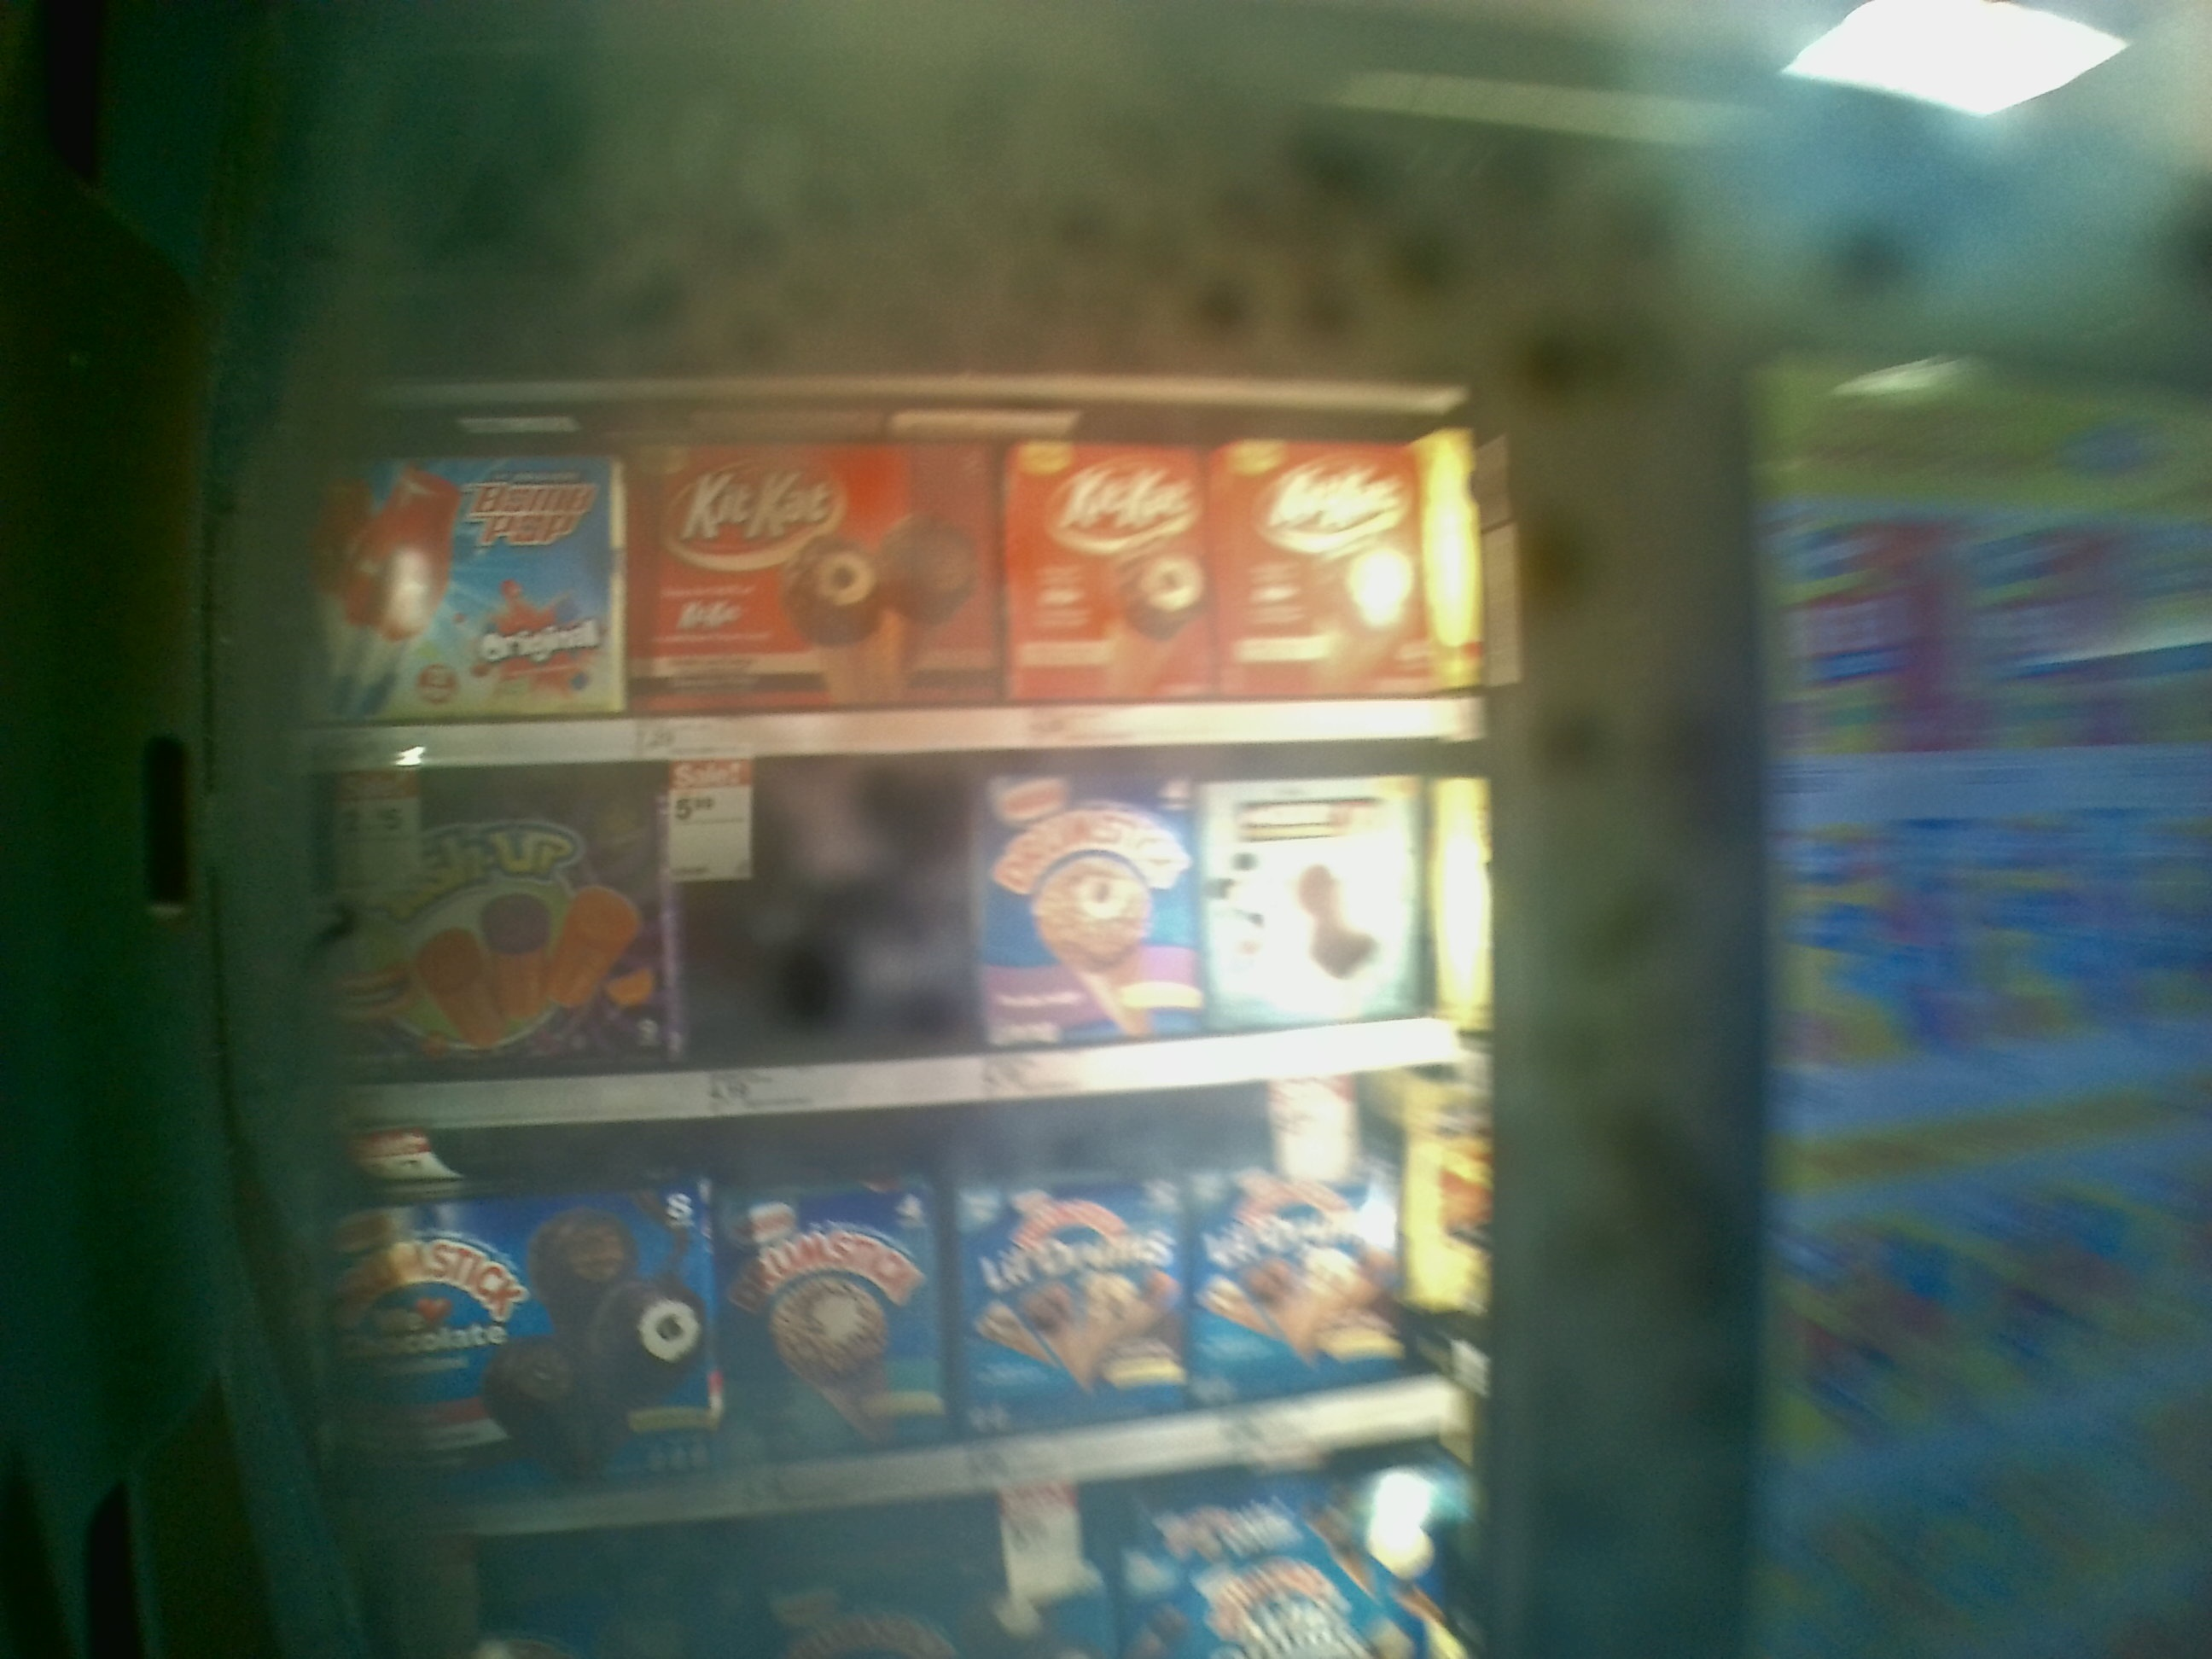shelf: (291, 734, 1501, 1127), (291, 392, 1498, 777)
